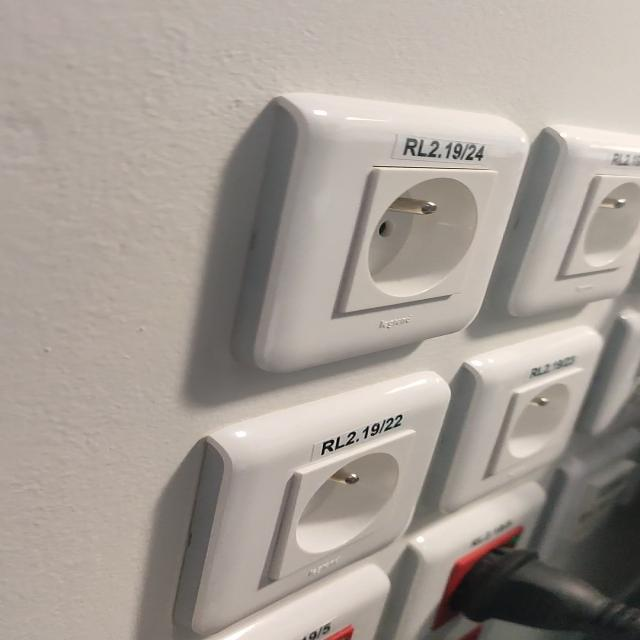house plug: (339, 166, 490, 316), (276, 432, 409, 581), (489, 370, 577, 475)
